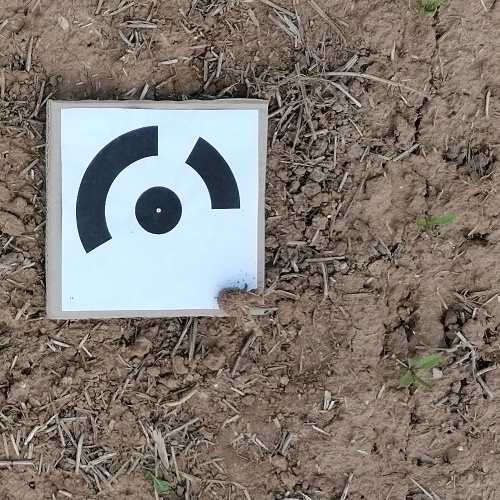beet: (397, 350, 441, 388), (417, 215, 454, 227)
